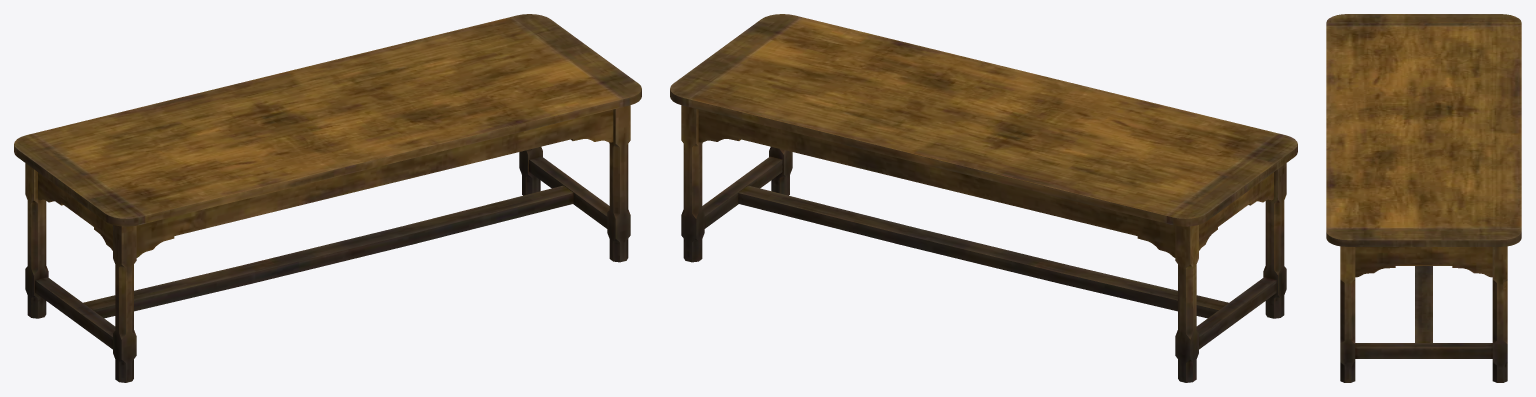
File: wooden-table-01.glb
The picture shows the model from 3 angles, left to right: view 1: azimuth 30°, elevation 25°; view 2: azimuth 150°, elevation 25°; view 3: azimuth 270°, elevation 25°; orthographic projection. The views are drawn at different scales.
Parts seen in each view (by area): view 1: WoodenTable_01; view 2: WoodenTable_01; view 3: WoodenTable_01.
Part boxes in pixels (x1,y1,x2,y2): WoodenTable_01: (14,14,641,382); WoodenTable_01: (670,14,1297,382); WoodenTable_01: (1326,14,1521,382).
Size of the model in its own units: 1.8 by 0.5488 by 0.6571.
Materials: 1 (1 with a texture image).
